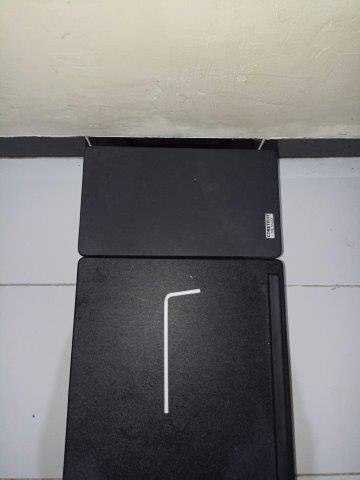sedotan: (163, 288, 201, 413)
